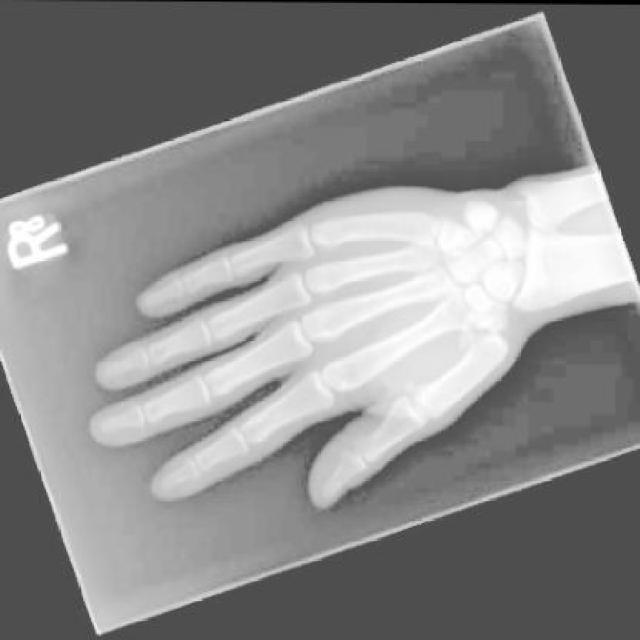Fracture: (441, 308, 498, 367)
